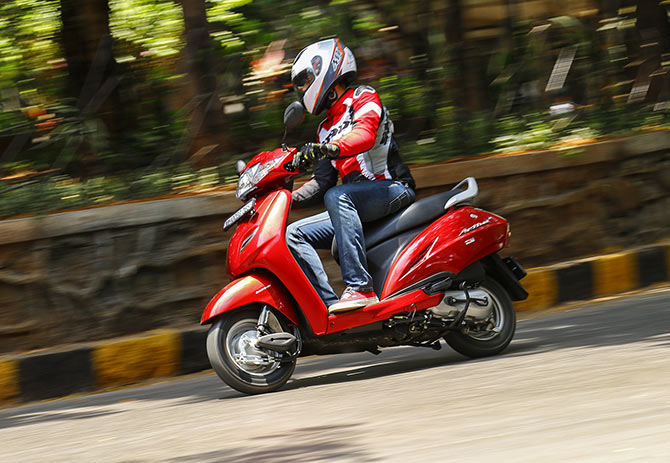with_helmet: (290, 37, 354, 104)
